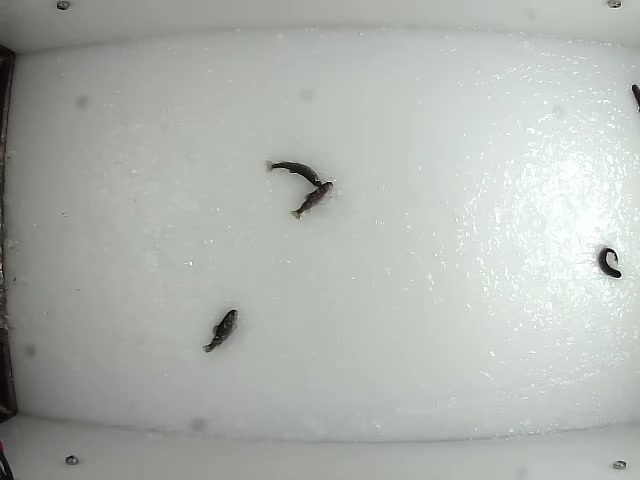fish: (264, 157, 324, 191), (289, 179, 334, 222), (202, 306, 239, 356), (597, 246, 623, 280)
